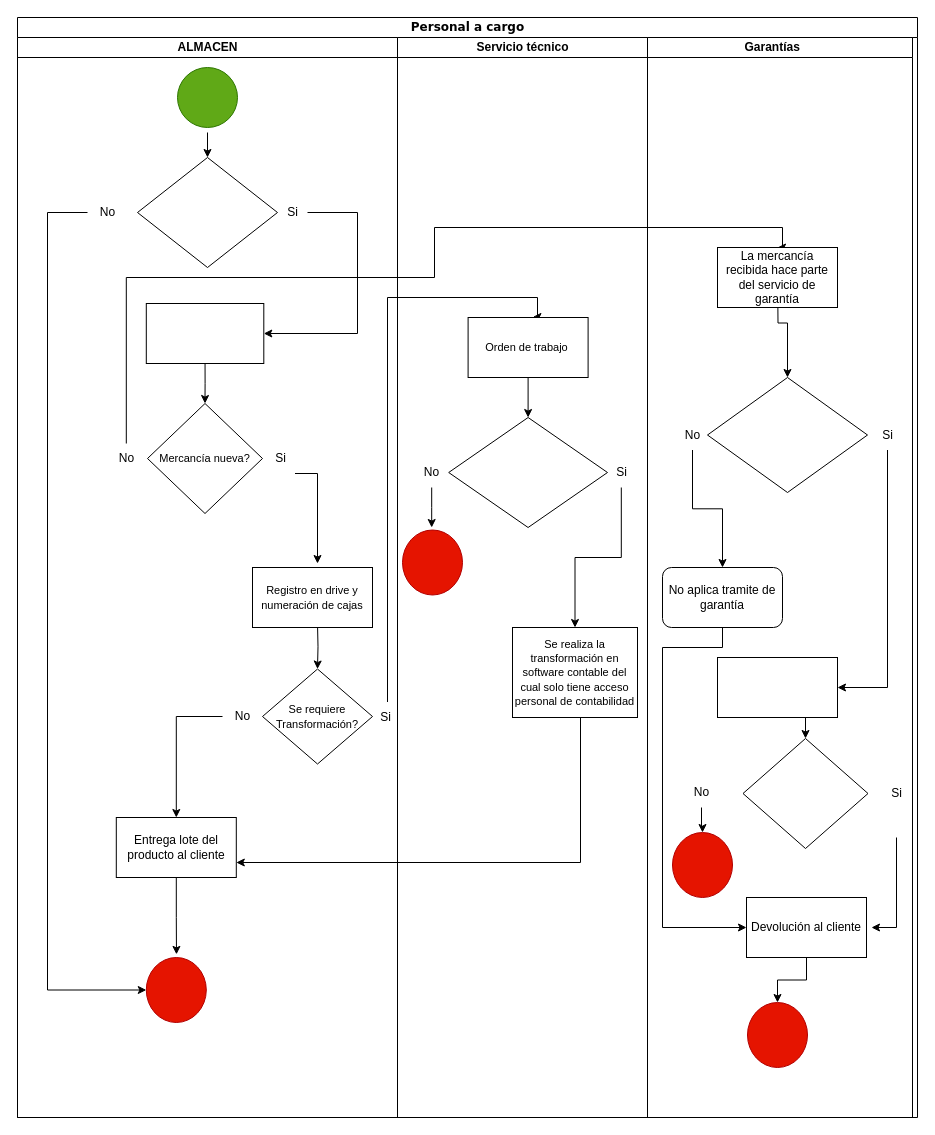
The diagram is 935 pixels wide and 1135 high, and some of its shapes have lost their labels. Each missing label, with the centre of its shape:
Hay registro de las partes ensambladas?: point (528, 472)
Ingreso mercancía?: point (207, 212)
Se cerró el tramite de garantía: point (805, 793)
Se recibe en muelles: point (204, 333)
Se requiere información del producto vendido?: point (787, 434)
Verificación de en carpetas alojadas en servidor y correo electrónicos: point (777, 687)
